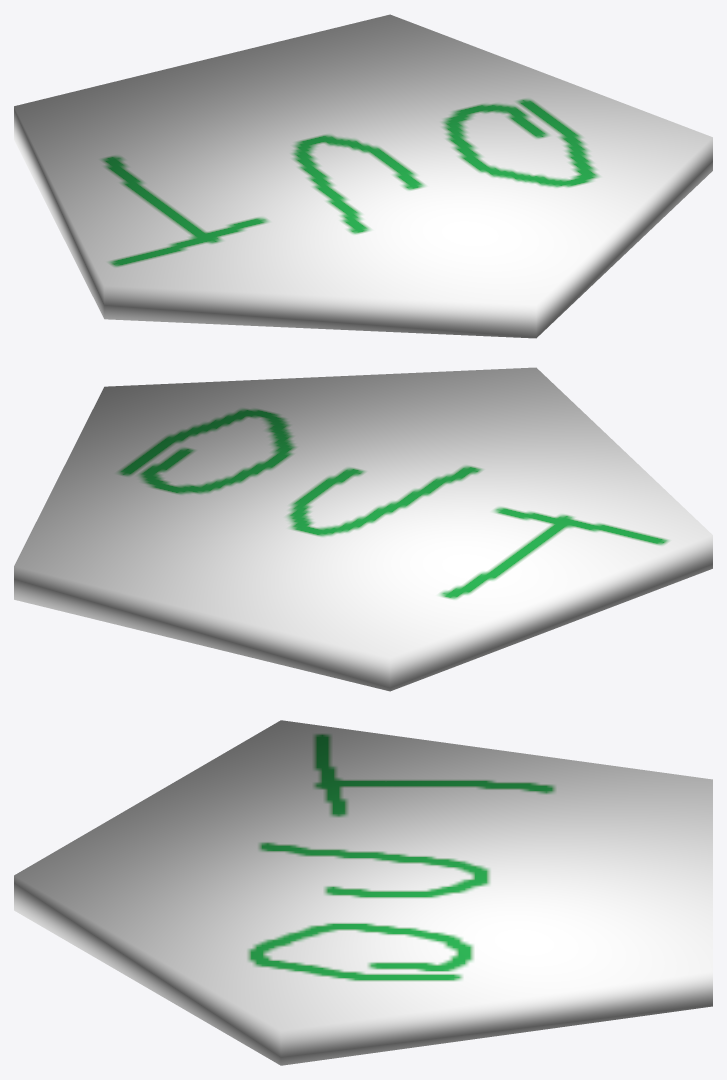
File: penttileWTexture.fbx
3 views of the same model, one above another, from view 1: azimuth 30°, elevation 25°; view 2: azimuth 150°, elevation 25°; view 3: azimuth 270°, elevation 25° (orthographic). The views are drawn at different scales.
Visible parts, largest first — view 1: Cylinder; view 2: Cylinder; view 3: Cylinder.
Boxes of the visible parts, left/top/right/bottom form: Cylinder: left=14, top=14, right=712, bottom=338; Cylinder: left=14, top=367, right=712, bottom=691; Cylinder: left=14, top=720, right=712, bottom=1065.
Size of the model in its own units: 190 by 181 by 10.
1 material, 1 textured.
